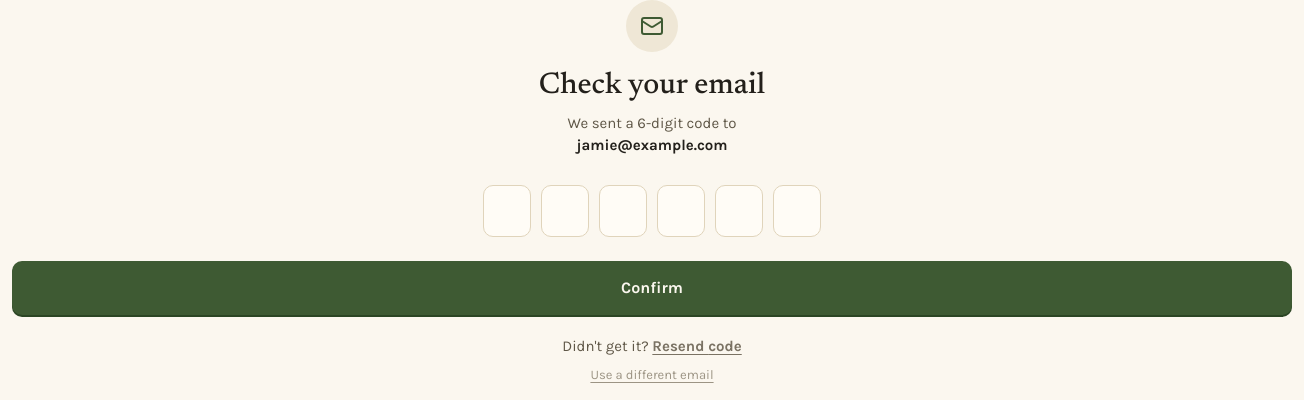
Scenario: ConfirmCodeStep › holds Resend for a minute after a code is sent
Click the button "Resend code": click(697, 346) [652, 334, 742, 357]
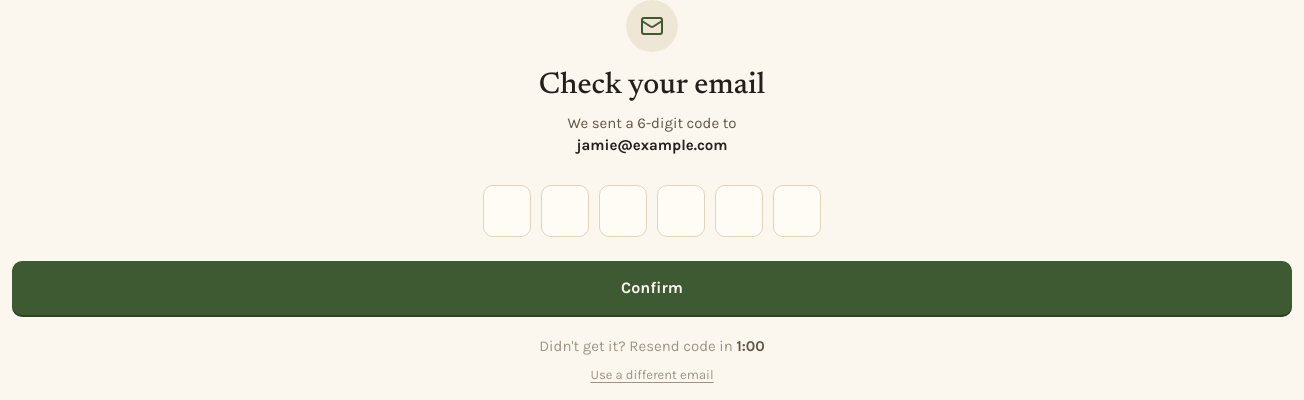
Now the text "Didn't get it? Resend code in 1:00" is shown, box [539, 334, 765, 357]
